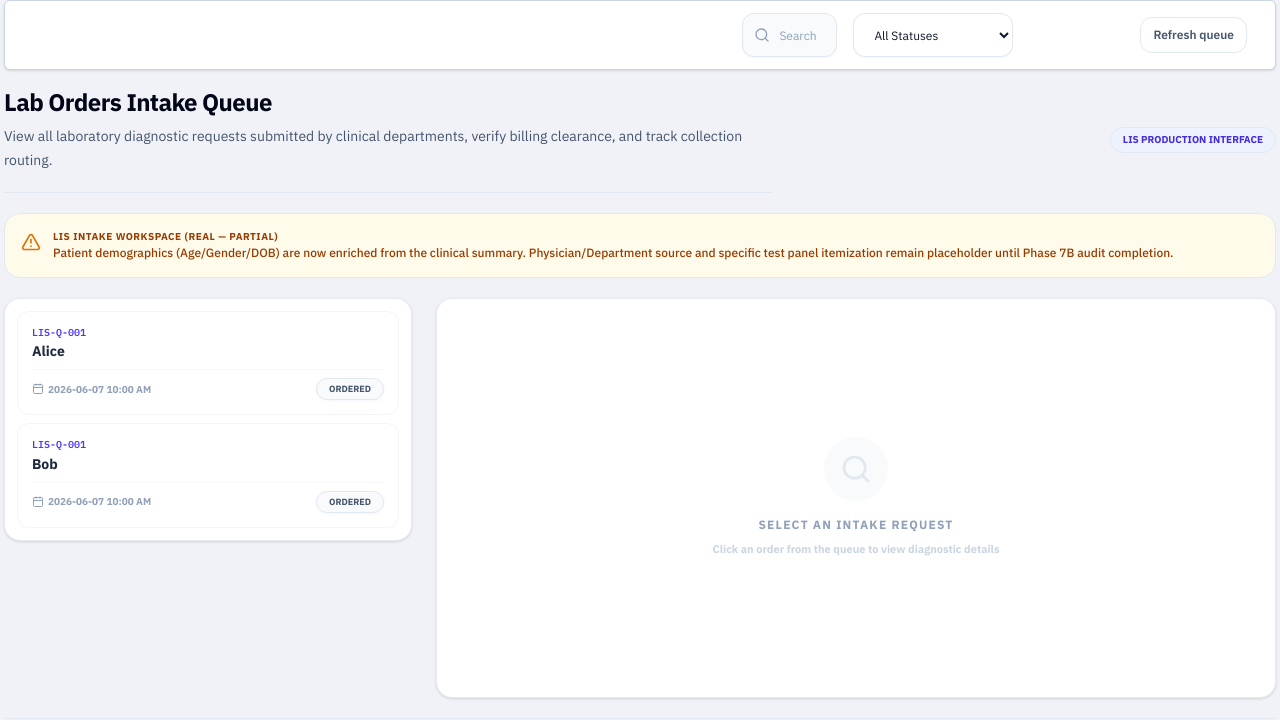
it: LabOrdersPage Unit Tests › filters orders by search text
The width and height of the screenshot is (1280, 720).
Check: the heading "Alice" is shown, box [32, 342, 65, 360]
Check: the heading "Bob" is shown, box [32, 455, 58, 473]
Type "Alice" into the field with placeholder "Search patient, order, or MRN..." at (790, 35), box [742, 13, 837, 57]
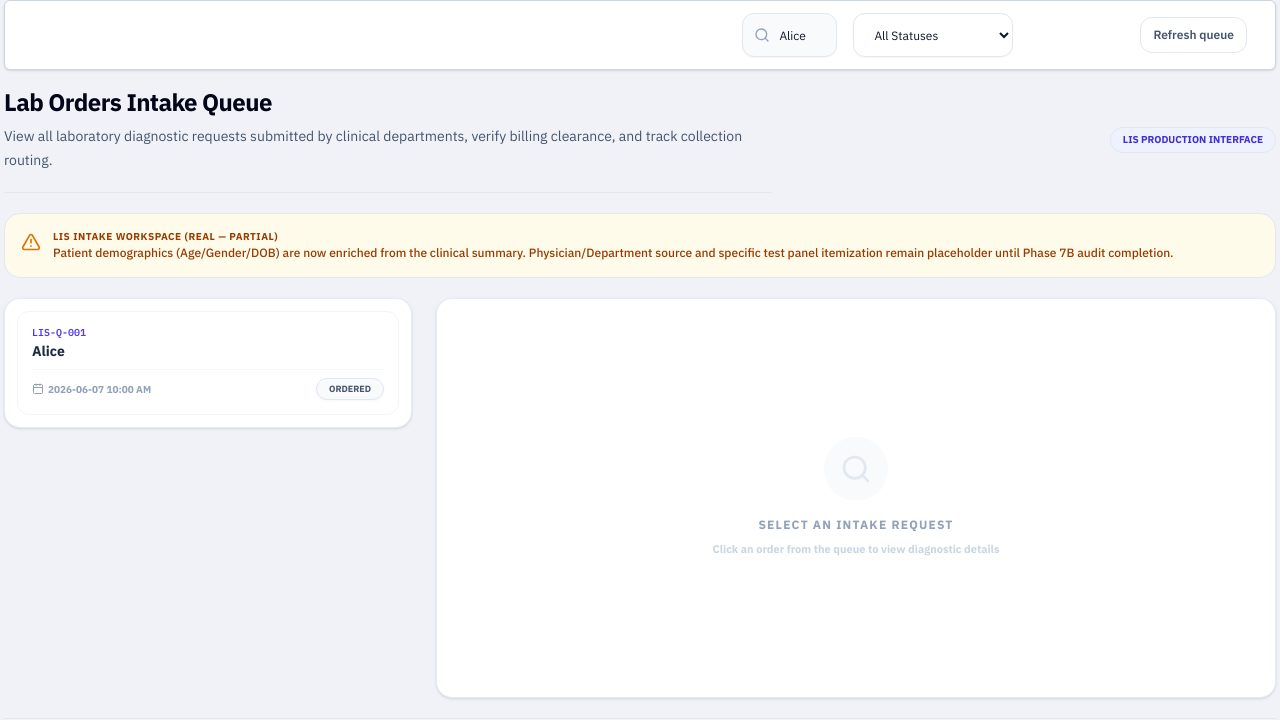
Check: the heading "Alice" is shown, box [32, 342, 65, 360]
Check: the heading "Bob" is gone
